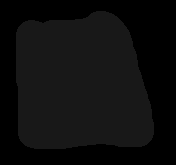fp: (12, 11, 159, 148)
